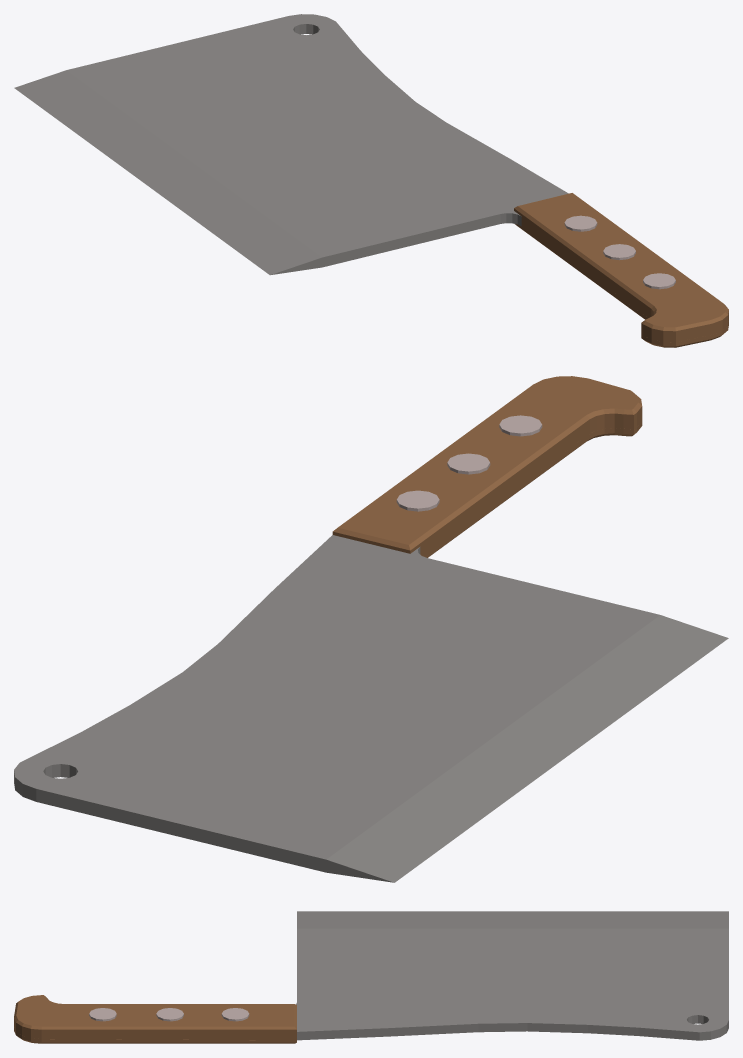
The model's file is Knife_01.fbx.
The picture shows the model from 3 angles, top to bottom: view 1: azimuth 30°, elevation 25°; view 2: azimuth 150°, elevation 25°; view 3: azimuth 270°, elevation 25°; orthographic projection. The views are drawn at different scales.
Visible parts, largest first — view 1: Knife_01; view 2: Knife_01; view 3: Knife_01.
Boxes of the visible parts, x1,y1,x2,y2 form: Knife_01: (14, 14, 728, 347); Knife_01: (14, 376, 728, 882); Knife_01: (14, 911, 728, 1043).
Bounding box in the file's own units: 17.62 × 1.37 × 42.47.
